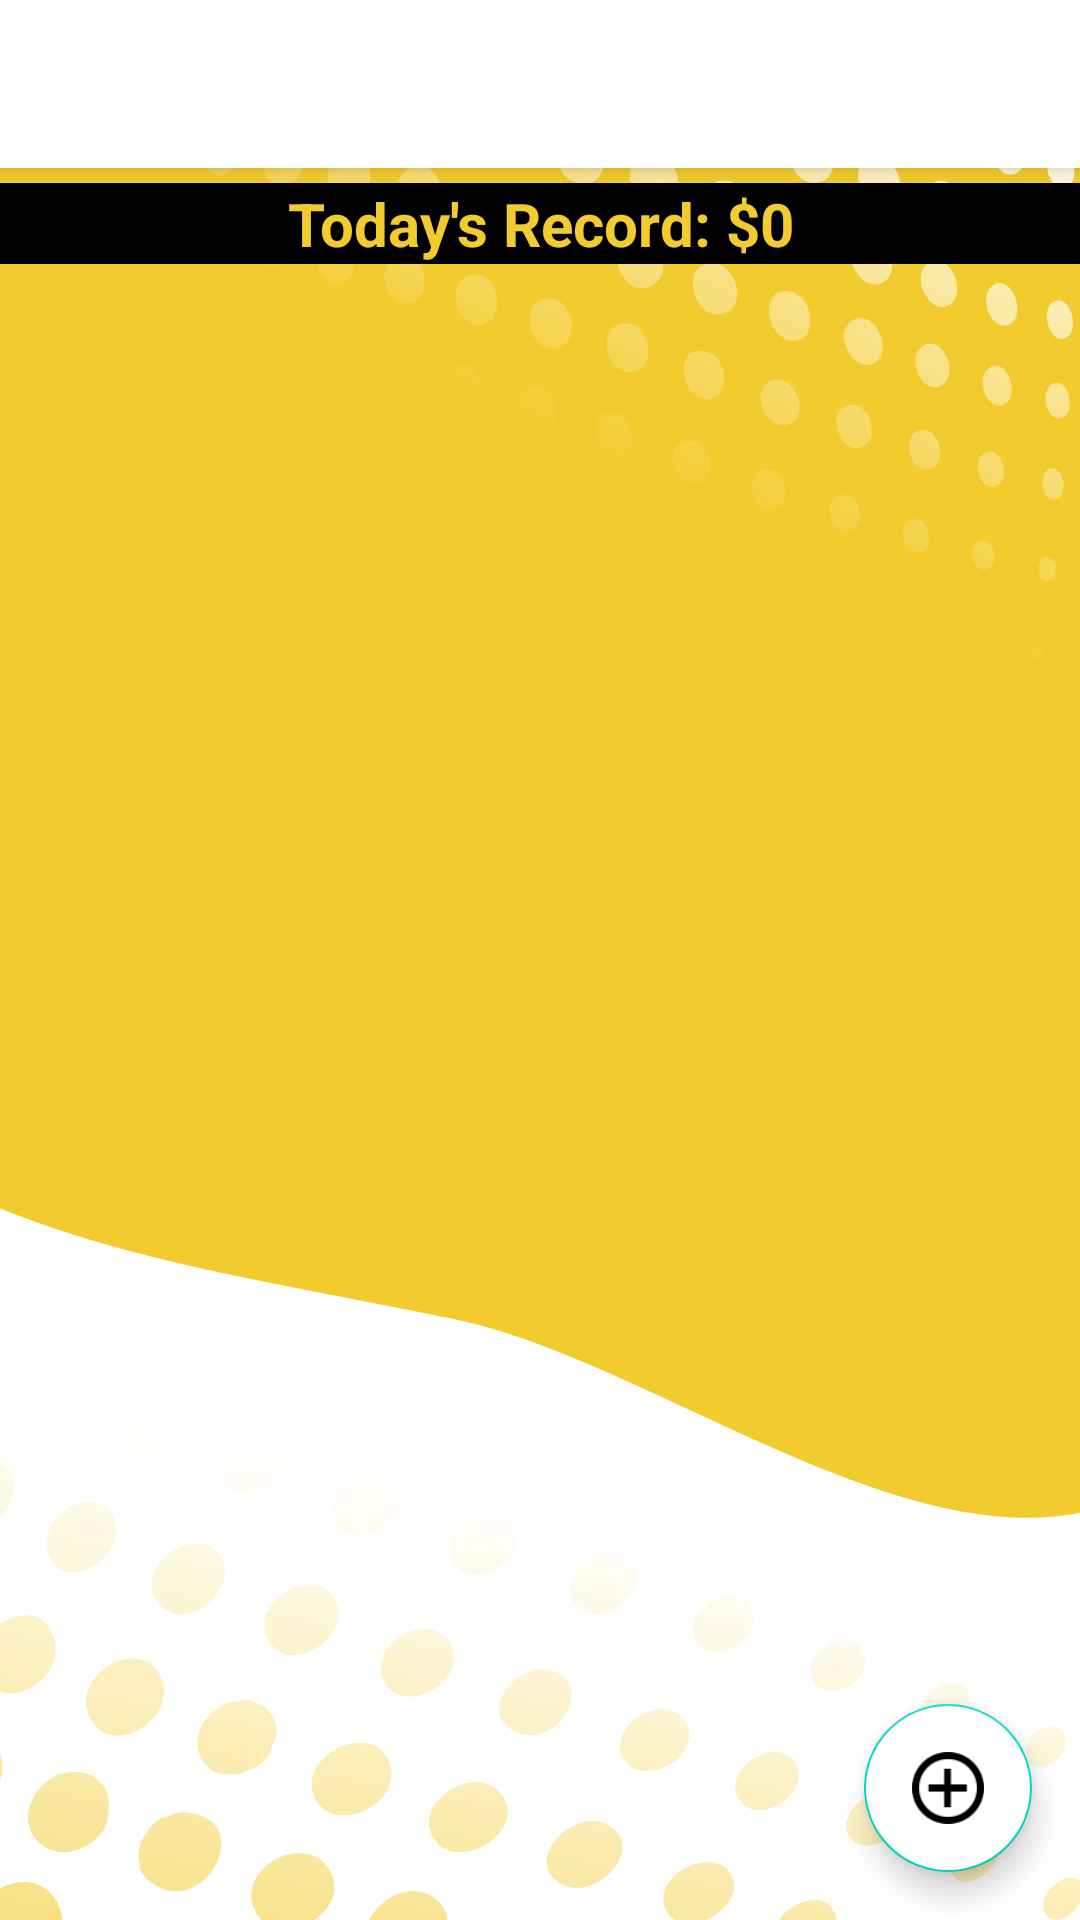

Icon click points for this 1080w x 1920h phone screenshot, format [x,y]:
addbtn: [948,1788]
